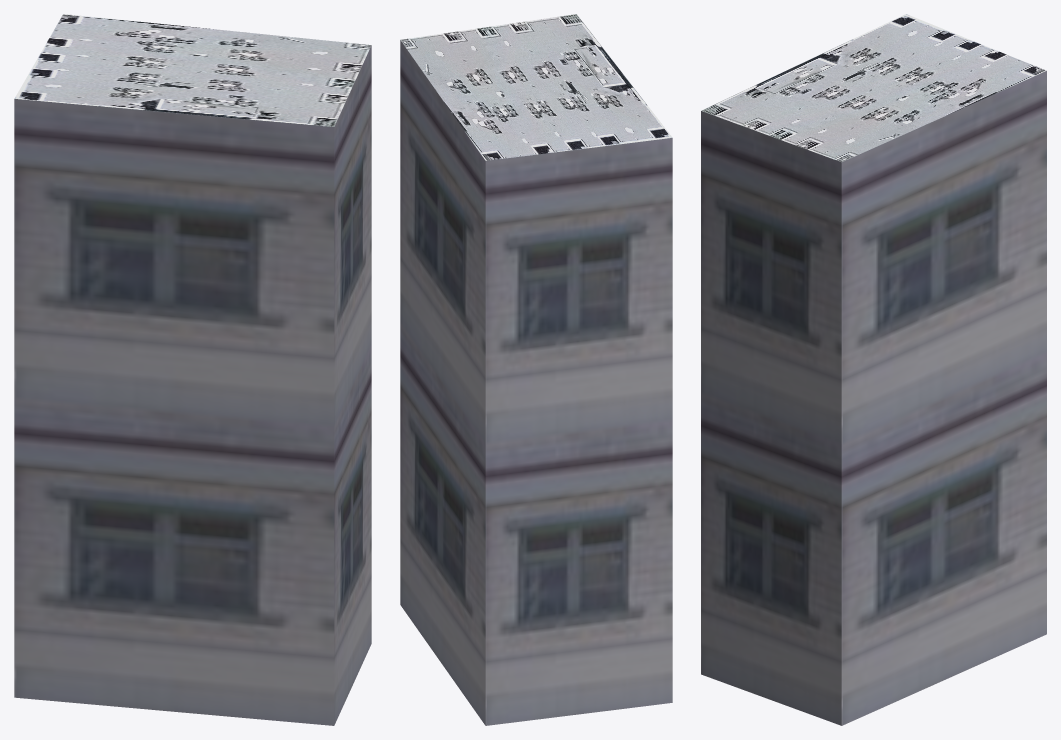
Rendered from ResTex__1701.fbx.
3 views of the same model, side by side, from view 1: azimuth 30°, elevation 25°; view 2: azimuth 150°, elevation 25°; view 3: azimuth 270°, elevation 25° (orthographic). The views are drawn at different scales.
Visible parts, largest first — view 1: CityEngineMaterial_1_m, CityEngineMaterial_m; view 2: CityEngineMaterial_1_m, CityEngineMaterial_m; view 3: CityEngineMaterial_1_m, CityEngineMaterial_m.
Part boxes in pixels (x1=…): CityEngineMaterial_1_m: x1=14, y1=45, x2=371, y2=725; CityEngineMaterial_m: x1=14, y1=14, x2=371, y2=126; CityEngineMaterial_1_m: x1=400, y1=40, x2=672, y2=725; CityEngineMaterial_m: x1=400, y1=14, x2=672, y2=160; CityEngineMaterial_1_m: x1=701, y1=71, x2=1046, y2=725; CityEngineMaterial_m: x1=701, y1=14, x2=1046, y2=162.
Size of the model in its own units: 3.39 by 6 by 3.34.
Materials: 2 (2 with a texture image).
